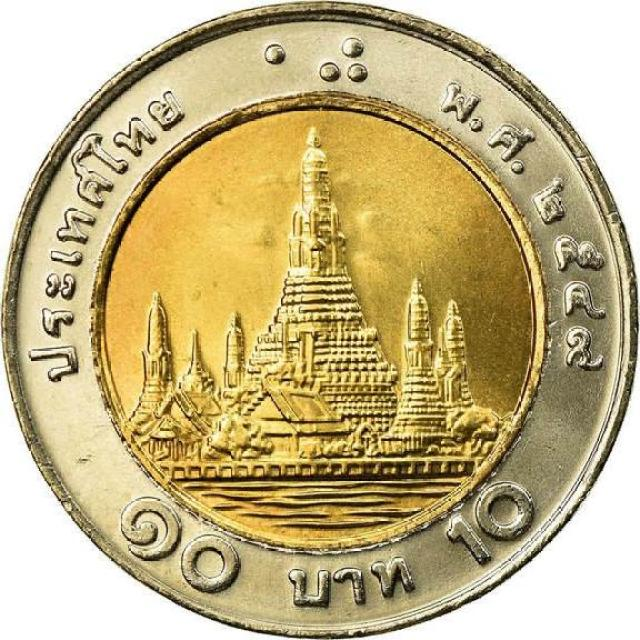10 Bath: (1, 1, 640, 640)
